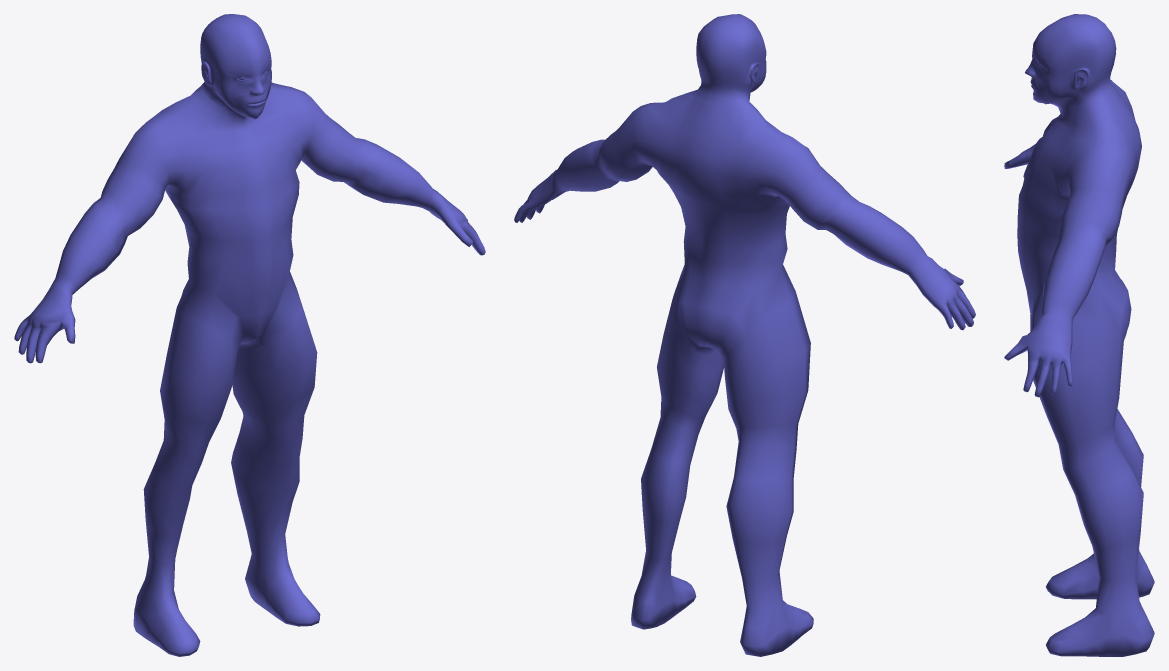
The model's file is Male.obj.
3 renders of one model, left to right at view 1: azimuth 30°, elevation 25°; view 2: azimuth 150°, elevation 25°; view 3: azimuth 270°, elevation 25°, orthographic. The views are drawn at different scales.
Visible parts, largest first — view 1: Circle_Circle.001; view 2: Circle_Circle.001; view 3: Circle_Circle.001.
Part boxes in pixels (left/top/right/bottom): Circle_Circle.001: left=14, top=14, right=485, bottom=656; Circle_Circle.001: left=514, top=14, right=975, bottom=656; Circle_Circle.001: left=1004, top=14, right=1154, bottom=656.
Bounding box in the file's own units: 1.54 × 1.97 × 0.4462.
